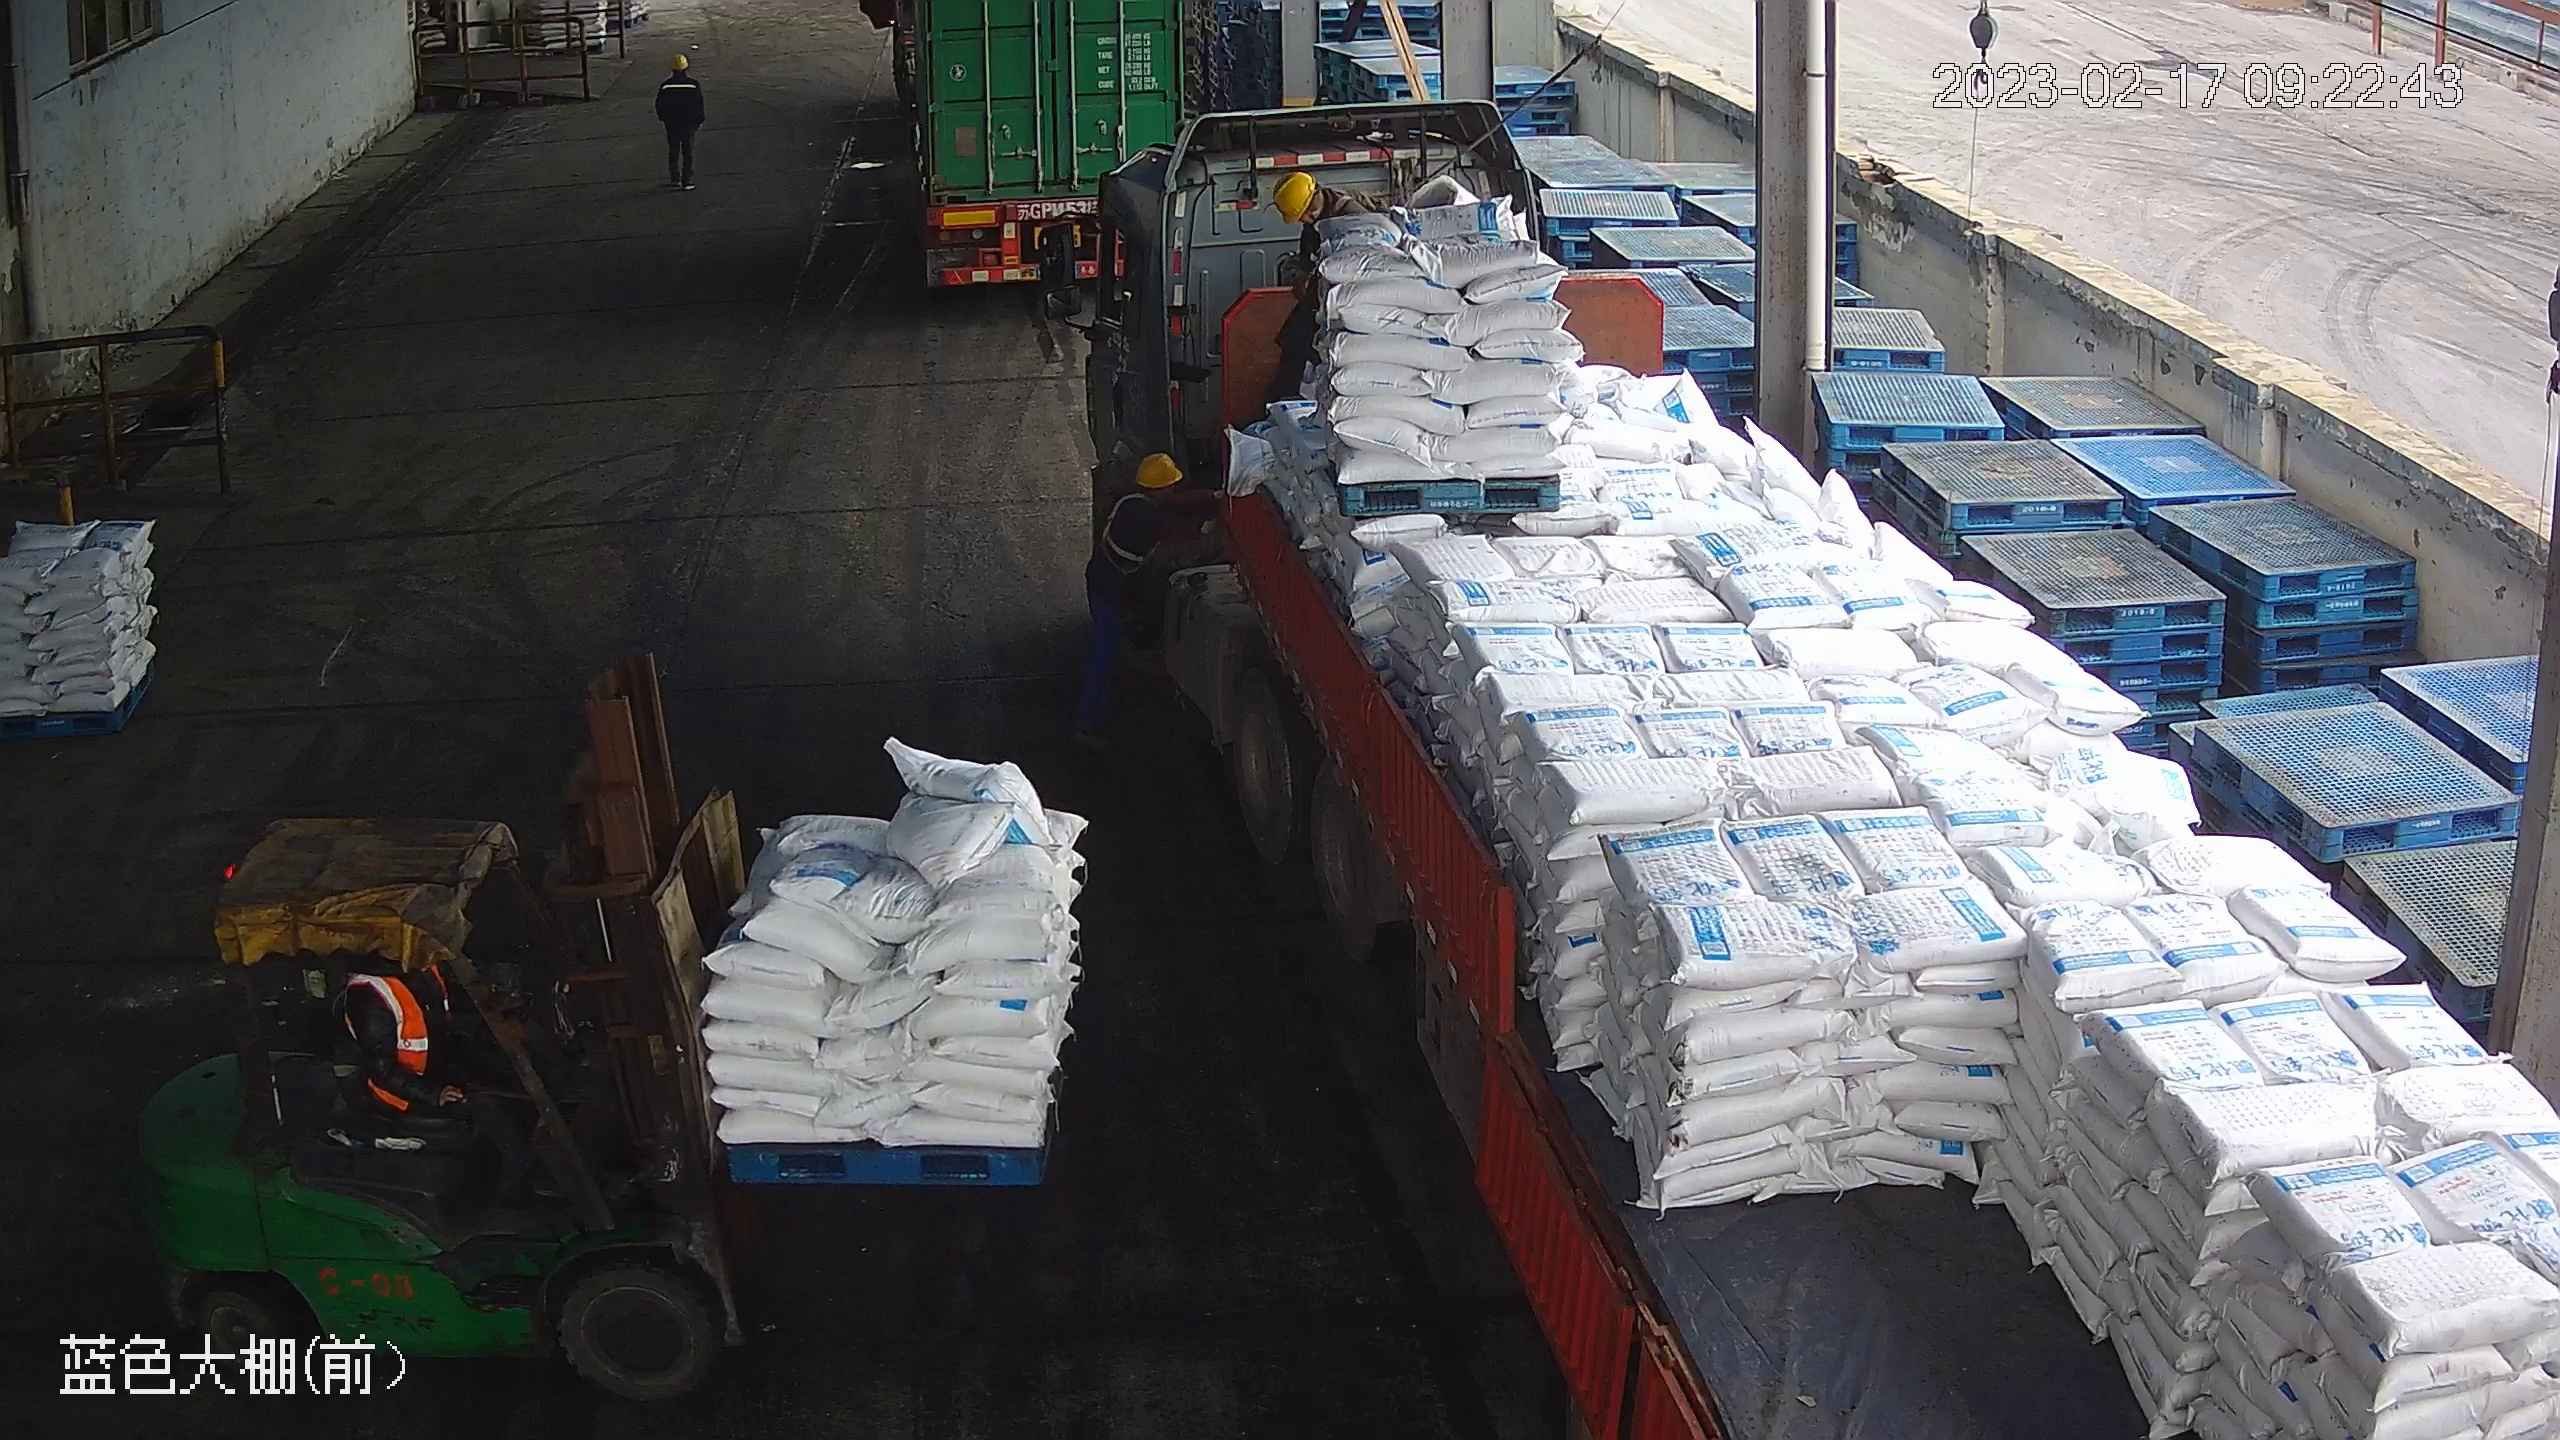belt: (1095, 490, 1150, 572)
head: (1099, 454, 1203, 561), (652, 53, 708, 96)
helmet: (1275, 173, 1318, 224), (1133, 454, 1186, 489), (668, 54, 689, 70)
people: (335, 954, 586, 1227), (1065, 452, 1224, 762), (653, 54, 705, 195)
truck: (1032, 89, 2560, 1440), (851, 1, 1195, 296)
